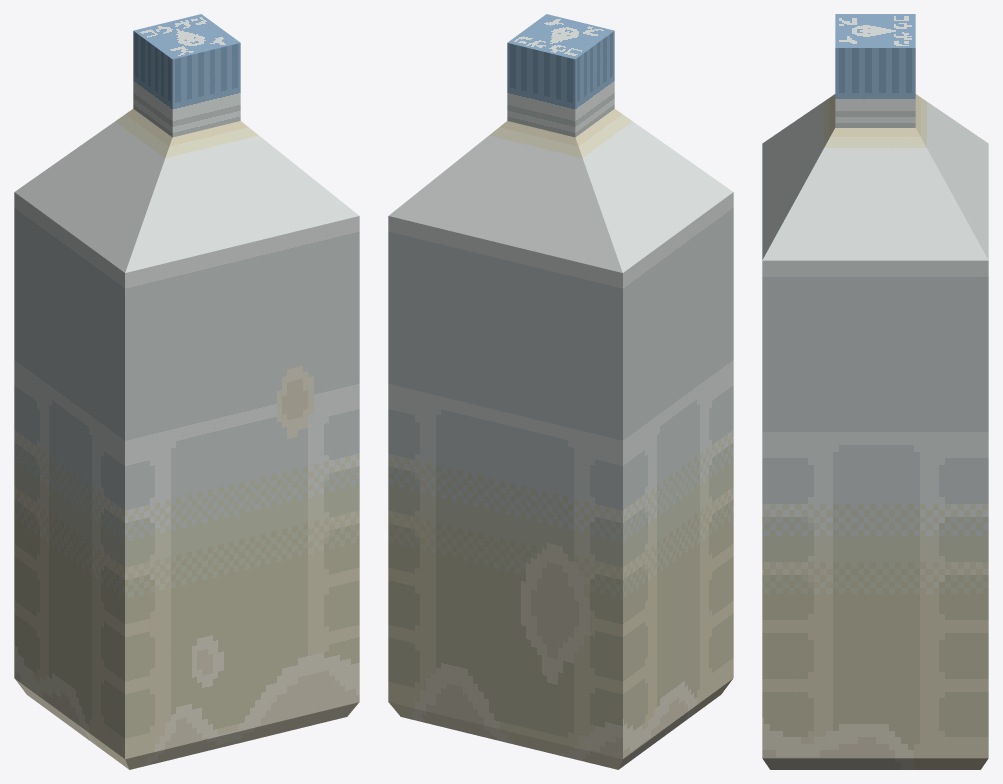
Rendered from 002e_PET_Bottle.glb.
The picture shows the model from 3 angles, left to right: view 1: azimuth 30°, elevation 25°; view 2: azimuth 150°, elevation 25°; view 3: azimuth 270°, elevation 25°; orthographic projection. The views are drawn at different scales.
Visible parts, largest first — view 1: part_0; view 2: part_0; view 3: part_0.
Part boxes in pixels (x1=…): part_0: x1=14, y1=14, x2=359, y2=769; part_0: x1=388, y1=14, x2=733, y2=769; part_0: x1=762, y1=14, x2=988, y2=769.
Size of the model in its own units: 0.11 by 0.3 by 0.09.
1 material, 1 textured.
